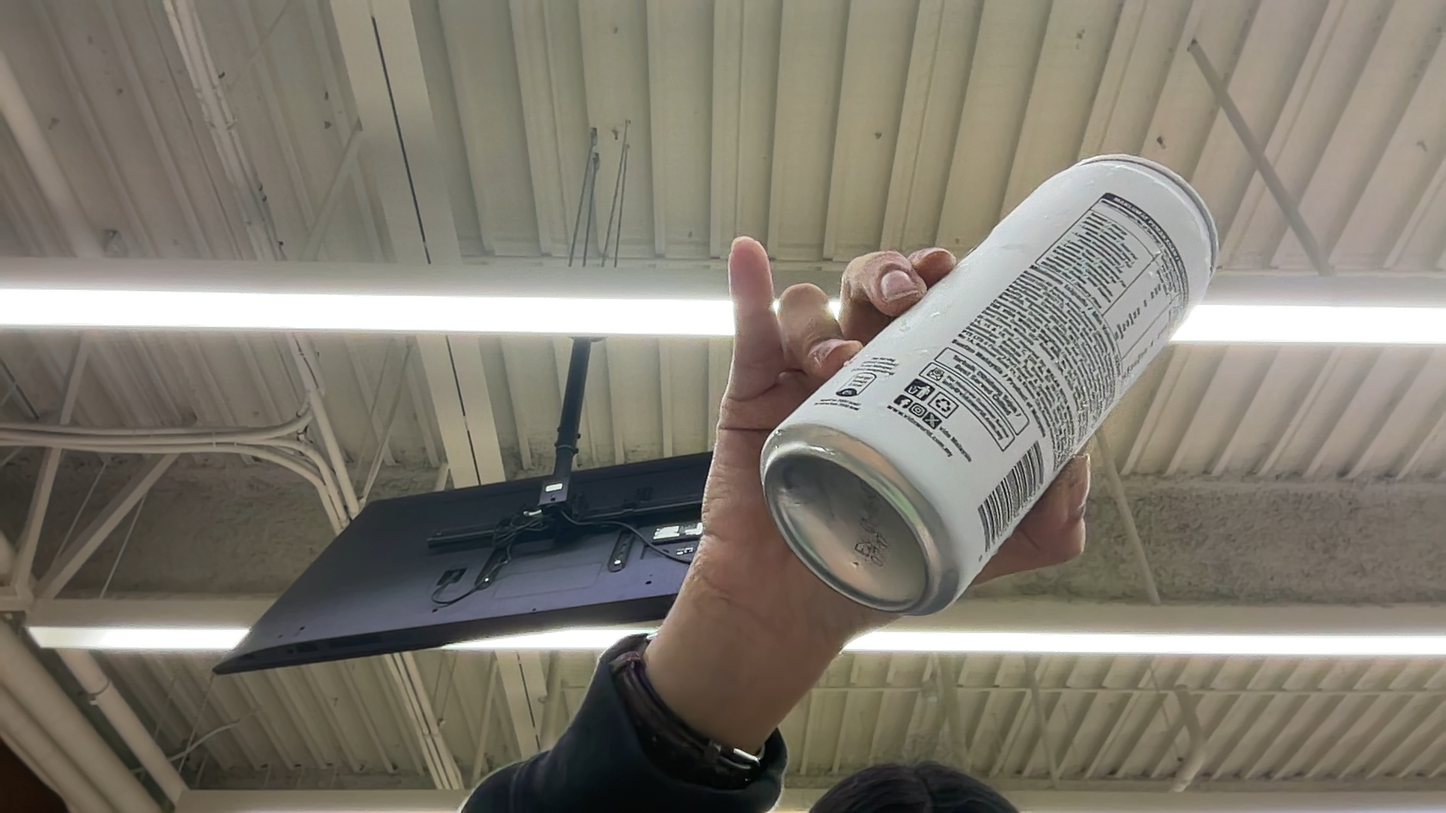Metal: (703, 149, 1269, 645)
